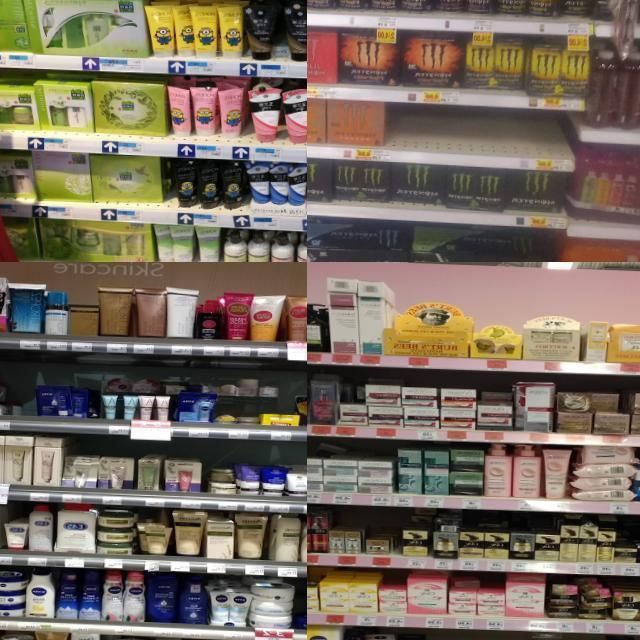Imprecise: (586, 392, 630, 438), (477, 388, 509, 428)
